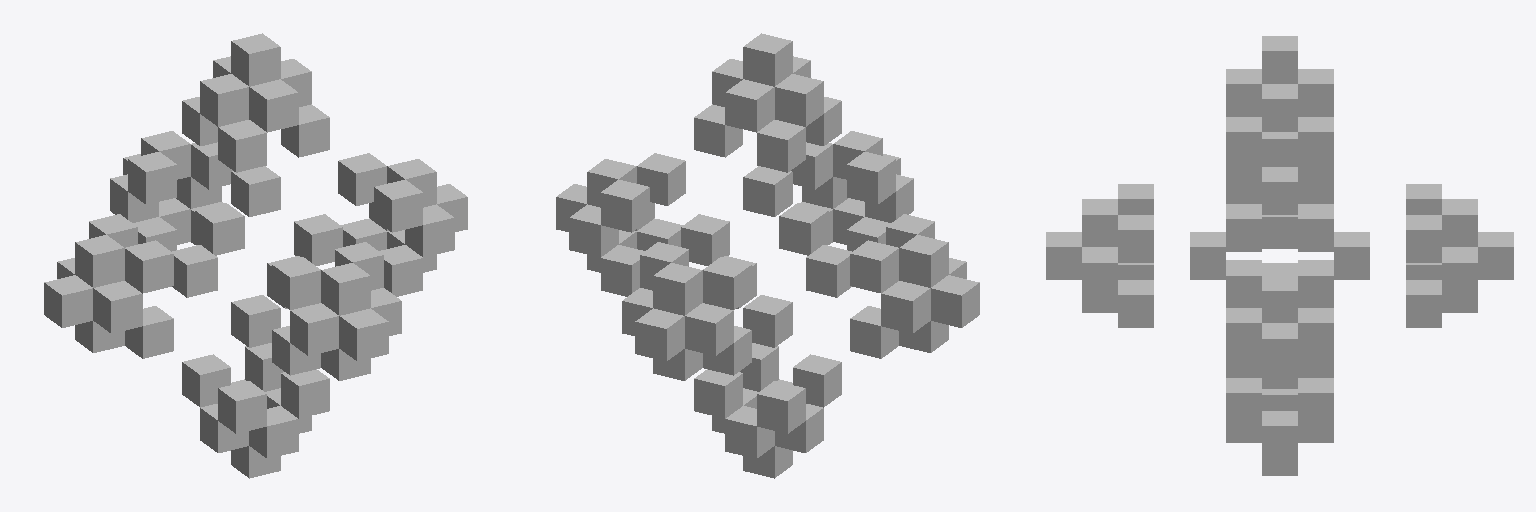
Rendered from ProjectileDeath4.obj.
3 views of the same model, side by side, from view 1: azimuth 30°, elevation 25°; view 2: azimuth 150°, elevation 25°; view 3: azimuth 270°, elevation 25° (orthographic).
Size of the model in its own units: 13 by 13 by 13.